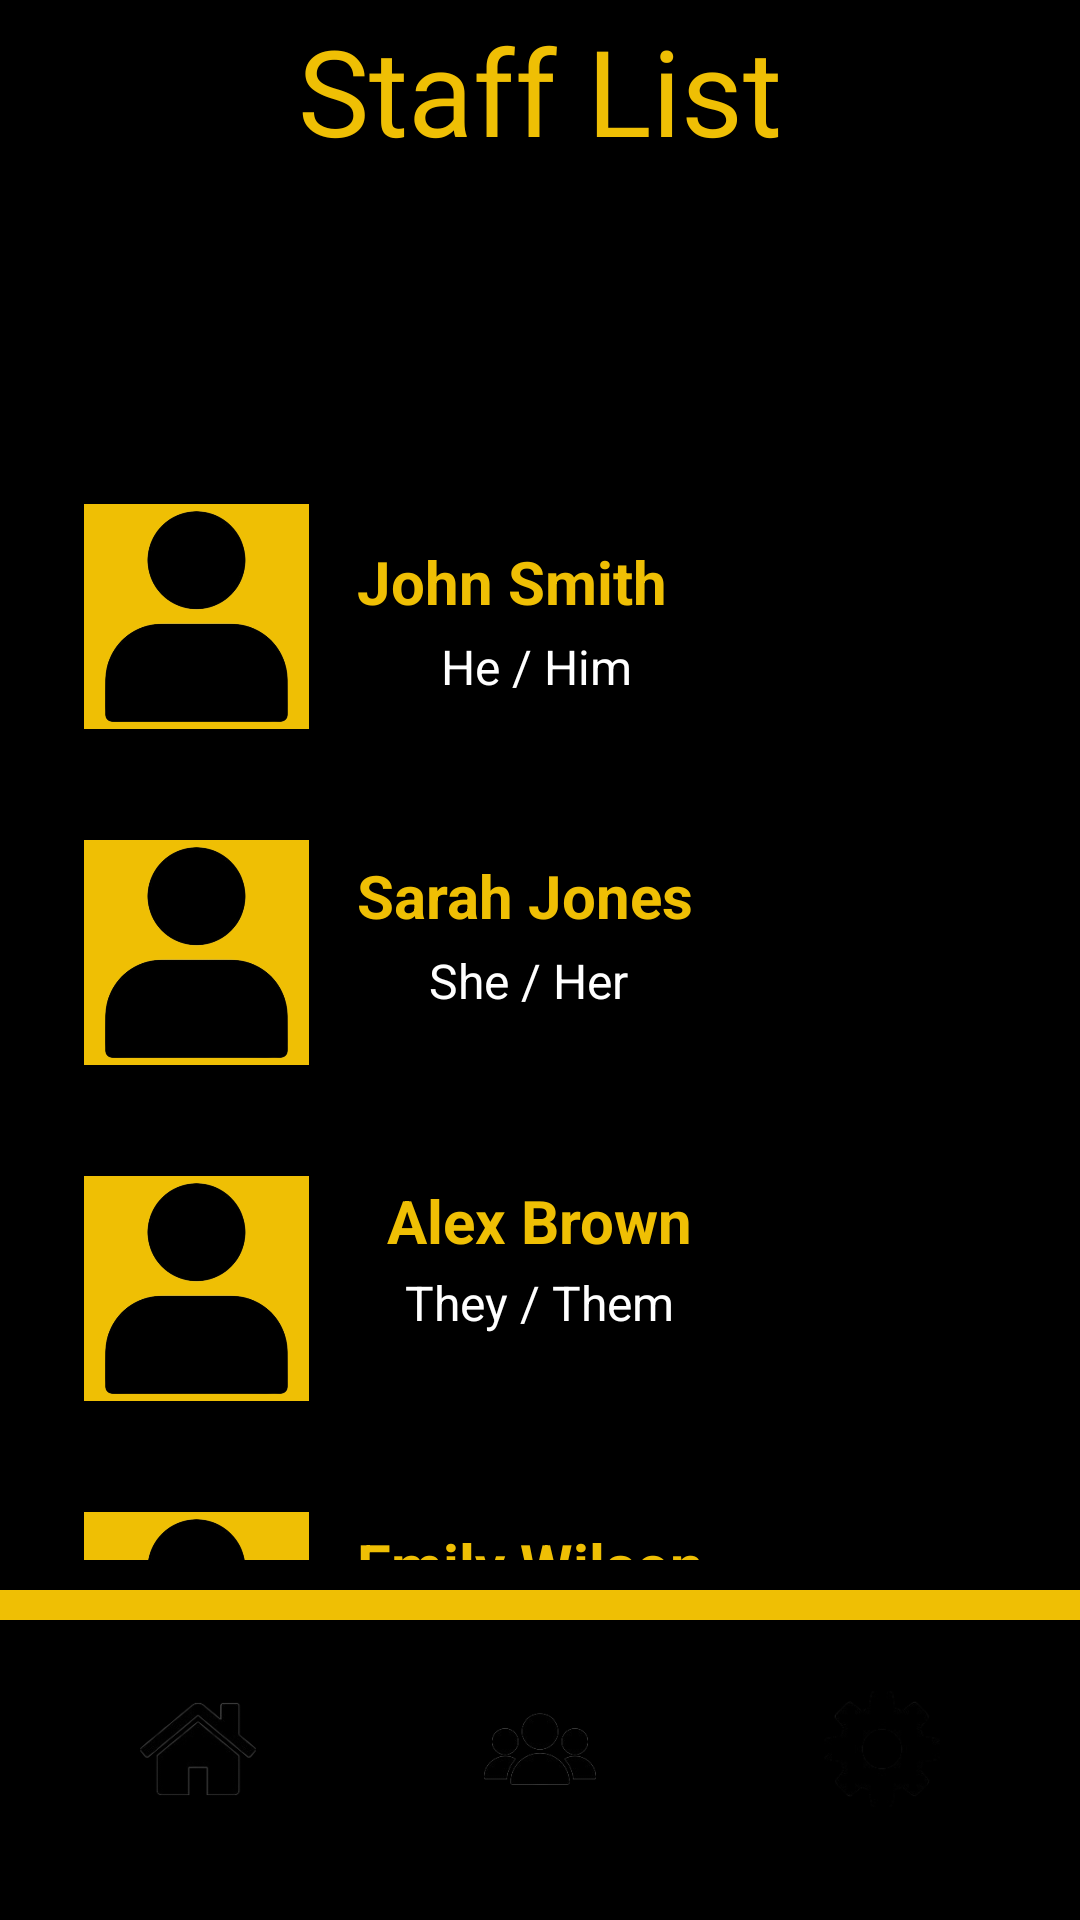

Screen size 1080 x 1920. Icon name, then its box in pixels as (x1, y1, x2, y2):
house: (140, 1703, 256, 1795)
staff: (484, 1713, 596, 1785)
